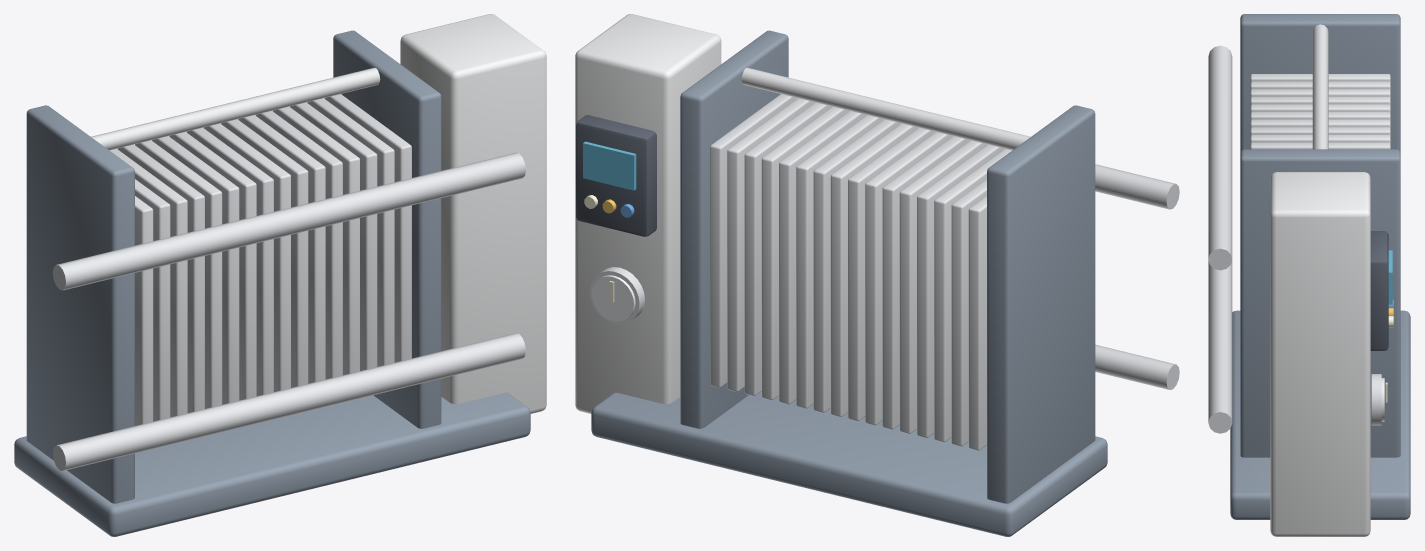
File: Pasteryzator.fbx
The picture shows the model from 3 angles, left to right: view 1: azimuth 30°, elevation 25°; view 2: azimuth 150°, elevation 25°; view 3: azimuth 270°, elevation 25°; orthographic projection. The views are drawn at different scales.
Parts seen in each view (by area): view 1: Maszyna_Pasteryzator_Korpus; view 2: Maszyna_Pasteryzator_Korpus; view 3: Maszyna_Pasteryzator_Korpus.
Part boxes in pixels (left/top/right/bottom): Maszyna_Pasteryzator_Korpus: left=14, top=14, right=546, bottom=536; Maszyna_Pasteryzator_Korpus: left=575, top=14, right=1179, bottom=536; Maszyna_Pasteryzator_Korpus: left=1208, top=14, right=1410, bottom=536.
Bounding box in the file's own units: 2.7 × 1.96 × 1.01.
